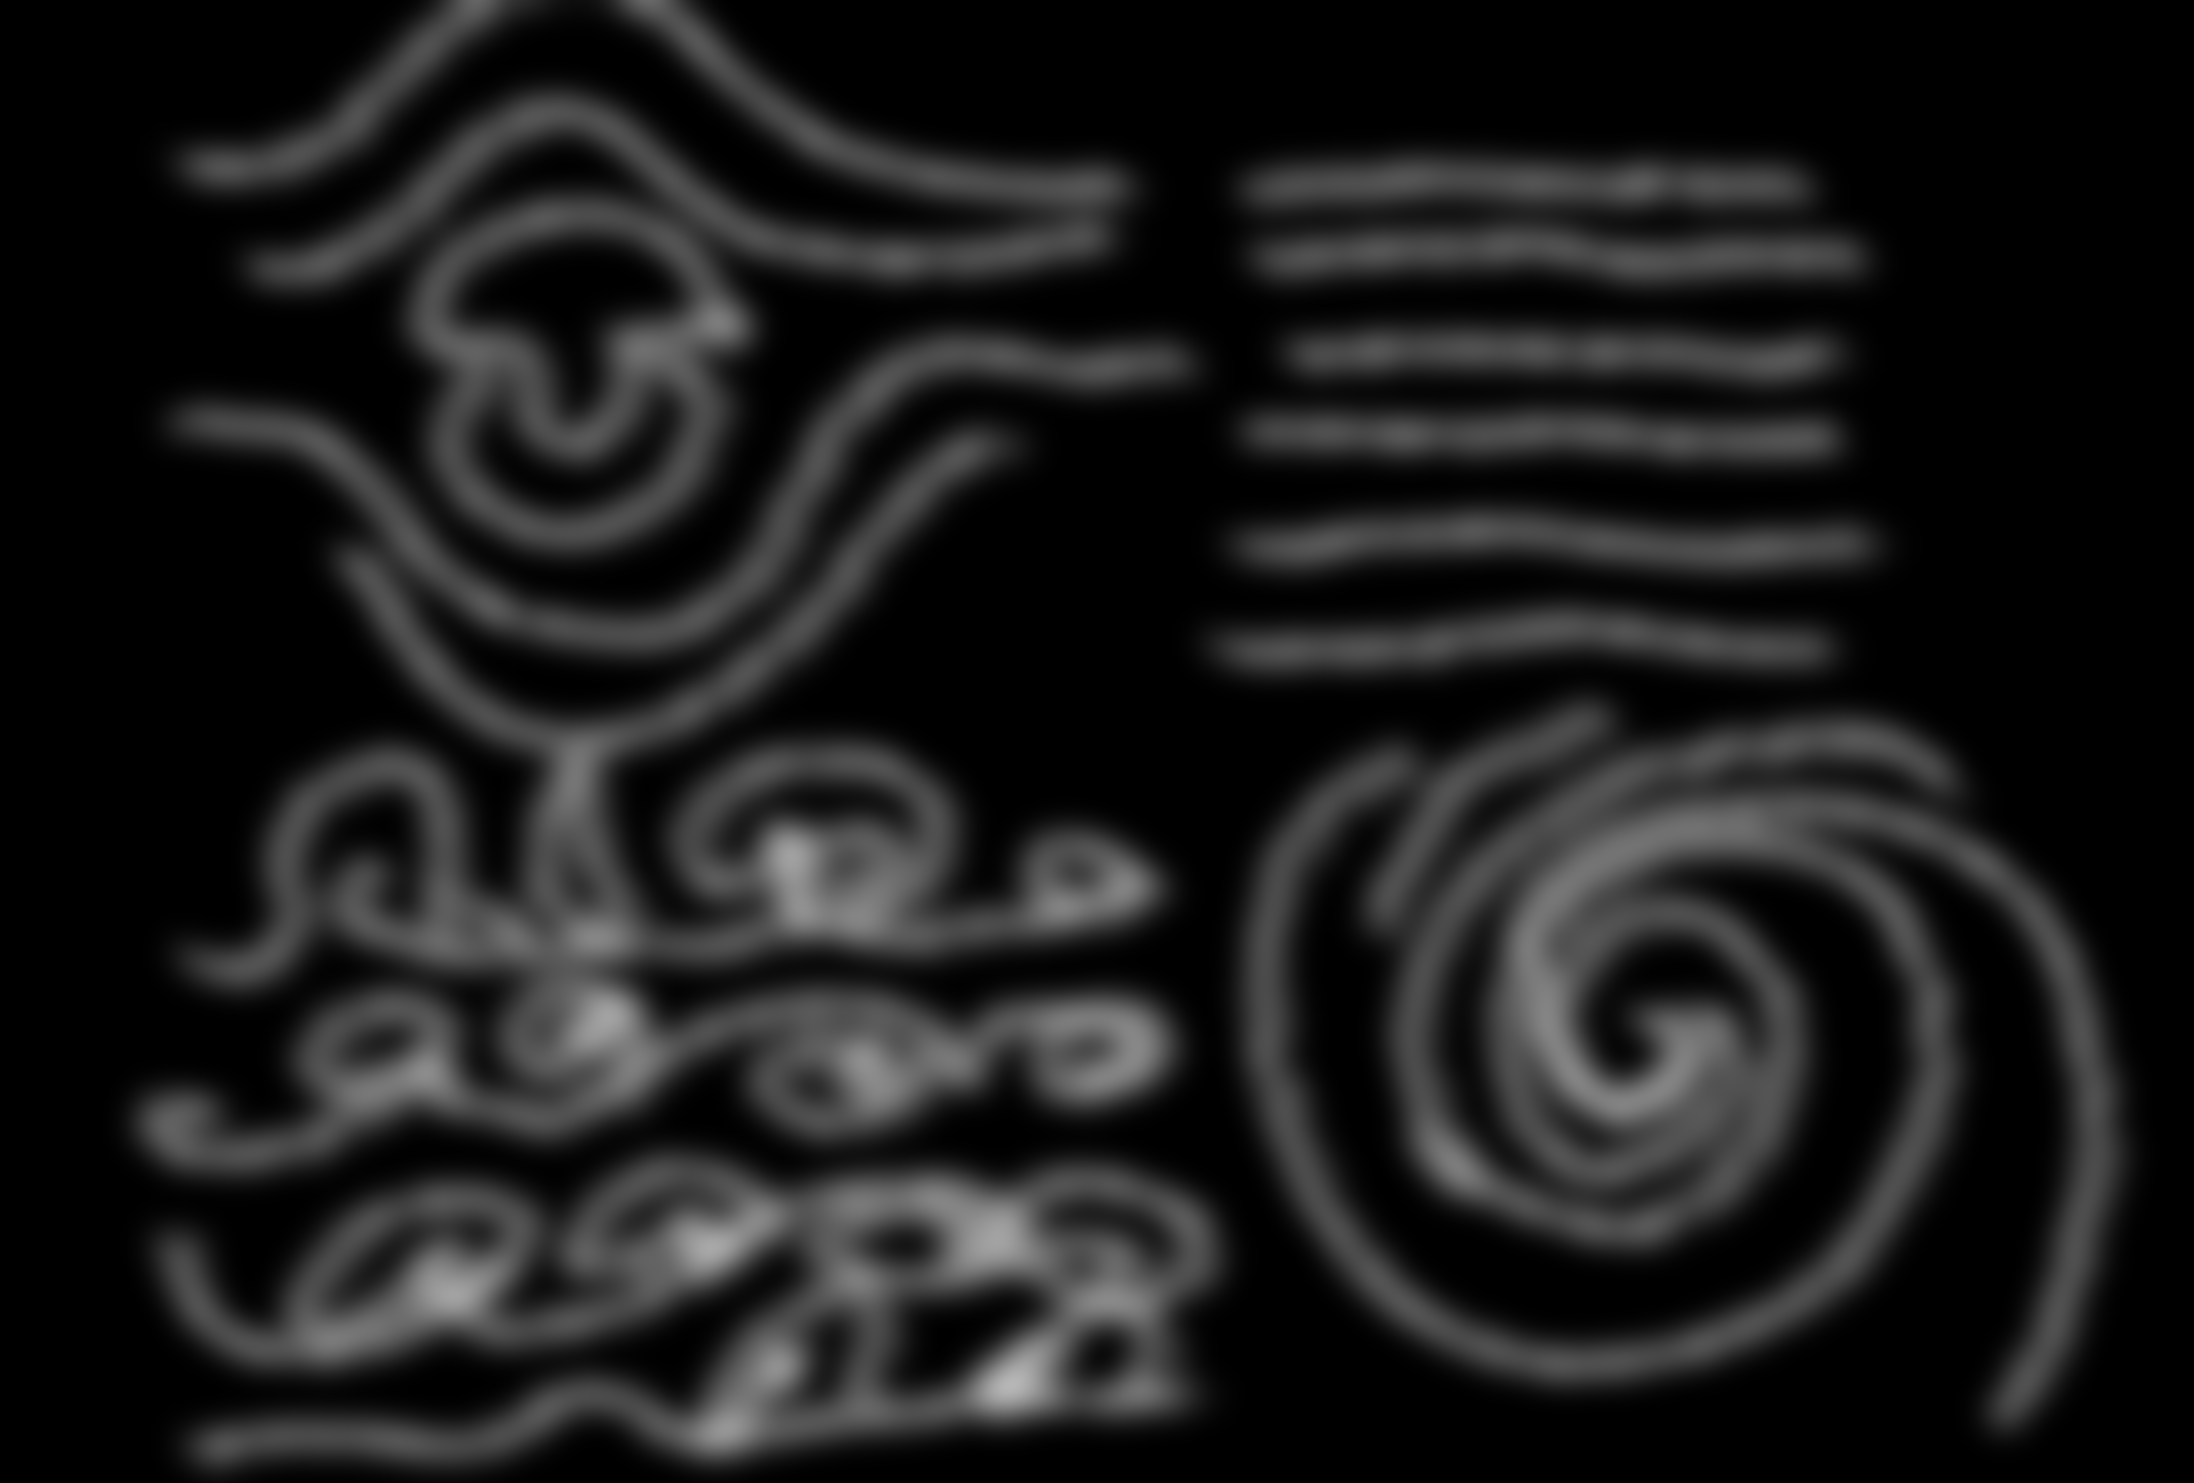Laminar flow: (1224, 79, 1890, 703)
Transition flow: (104, 20, 1171, 713)
turbulence: (146, 738, 1226, 1428)
vortex: (1262, 717, 2062, 1420)
